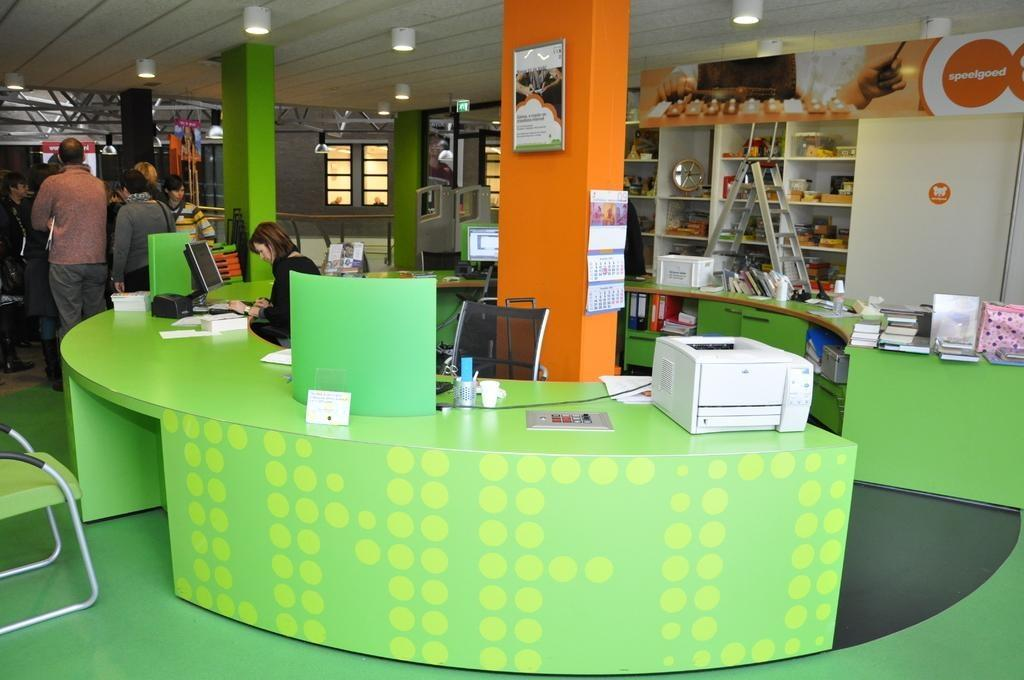Printer: (649, 334, 813, 433)
Rak: (623, 118, 861, 292)
